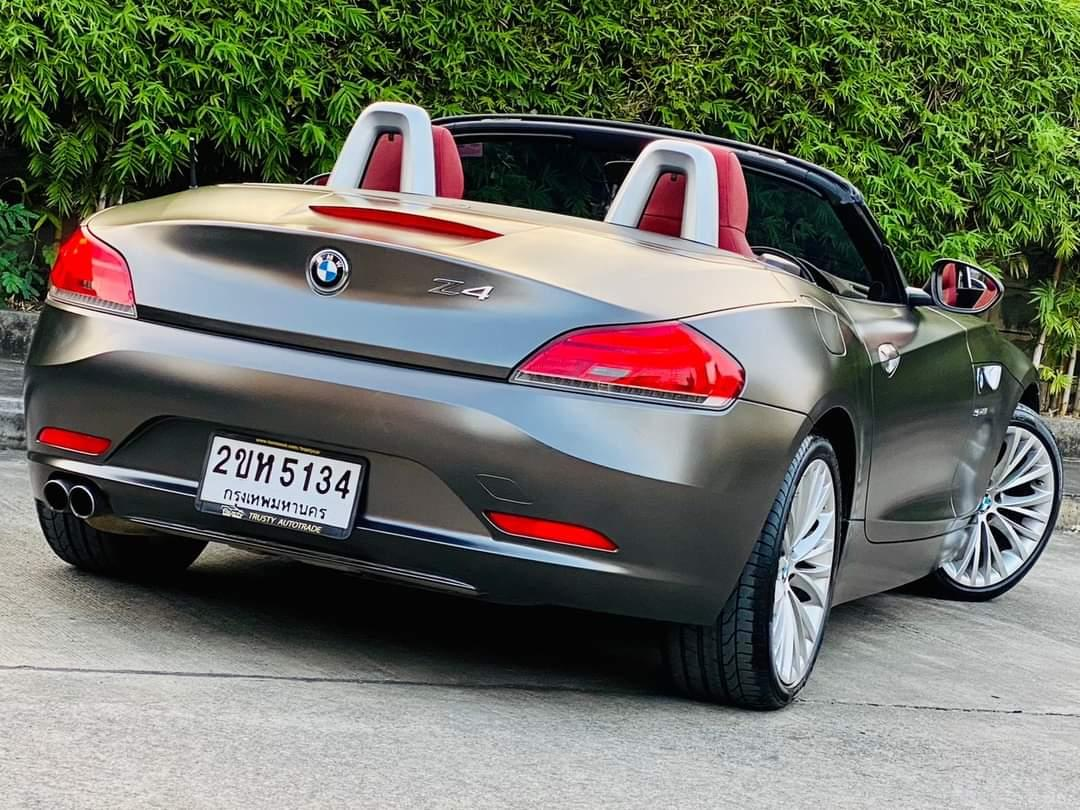license-plate: (197, 424, 369, 546)
